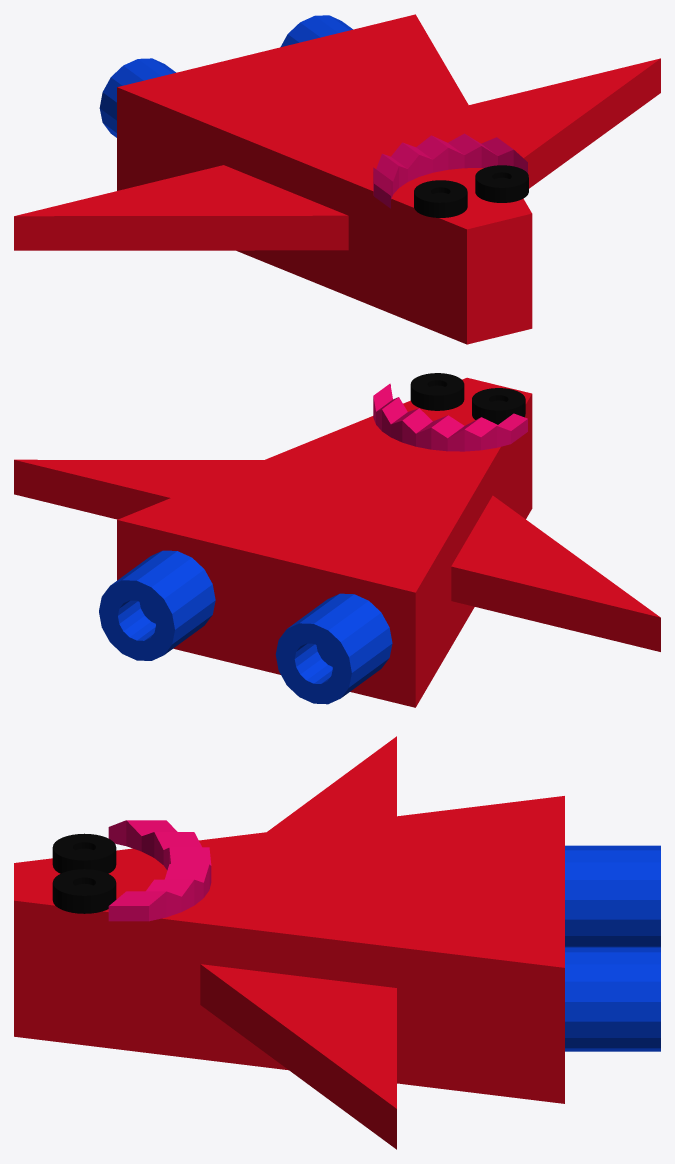
The model's file is Spaceship.dae.
The picture shows the model from 3 angles, top to bottom: view 1: azimuth 30°, elevation 25°; view 2: azimuth 150°, elevation 25°; view 3: azimuth 270°, elevation 25°; orthographic projection. The views are drawn at different scales.
Visible parts, largest first — view 1: Body, Wings, Mouth, ThrustorLeft, EyeLeft, EyeRight, ThrustorRight; view 2: Body, Wings, ThrustorRight, ThrustorLeft, Mouth, EyeLeft, EyeRight; view 3: Body, Wings, ThrustorRight, ThrustorLeft, Mouth, EyeLeft, EyeRight.
Part boxes in pixels (x1,y1,x2,y2): Body: (117, 14, 532, 344); Wings: (14, 58, 660, 250); Mouth: (373, 133, 527, 208); ThrustorLeft: (99, 58, 175, 137); EyeLeft: (475, 165, 528, 202); EyeRight: (414, 180, 467, 217); ThrustorRight: (280, 15, 352, 47); Body: (117, 377, 532, 707); Wings: (14, 459, 660, 651); ThrustorRight: (99, 550, 215, 660); ThrustorLeft: (275, 593, 392, 704); Mouth: (373, 383, 527, 451); EyeLeft: (410, 373, 464, 410); EyeRight: (472, 388, 525, 424); Body: (14, 796, 564, 1103); Wings: (200, 736, 396, 1149); ThrustorRight: (565, 947, 660, 1051); ThrustorLeft: (565, 845, 660, 947); Mouth: (108, 820, 211, 921); EyeLeft: (52, 869, 116, 913); EyeRight: (52, 833, 116, 873).
Bounding box in the file's own units: 8.71 × 6.39 × 1.77.
